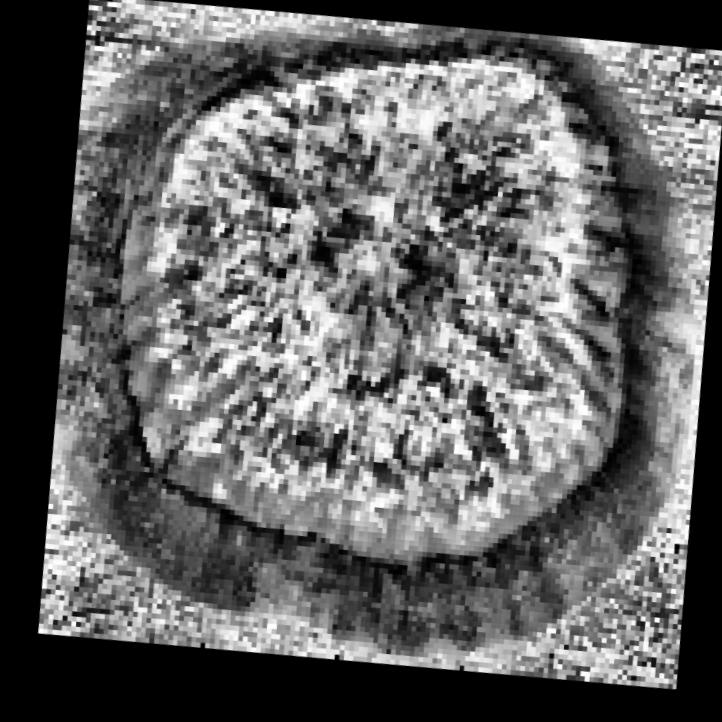qualityHazelnut: (0, 0, 722, 721)
